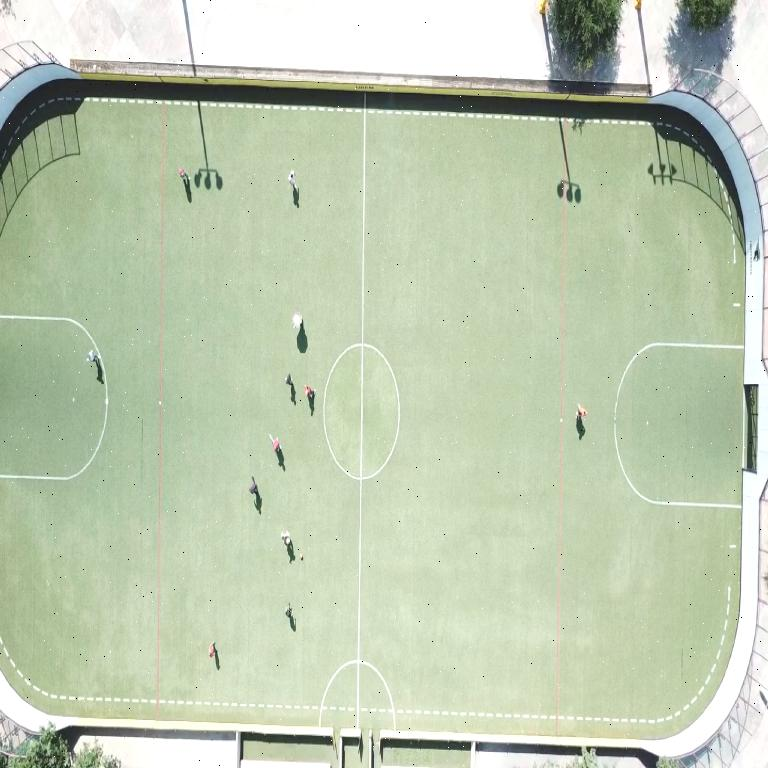AC: (614, 343, 743, 508), (0, 362, 107, 481)
B: (299, 553, 303, 560)
MC: (356, 94, 366, 727)
P: (249, 476, 258, 497), (270, 435, 280, 453), (292, 311, 302, 329), (288, 170, 297, 189), (87, 349, 100, 362), (179, 168, 188, 184), (282, 533, 291, 549), (305, 386, 315, 399), (578, 405, 587, 419), (209, 643, 216, 658), (285, 603, 292, 618), (285, 374, 292, 386)
